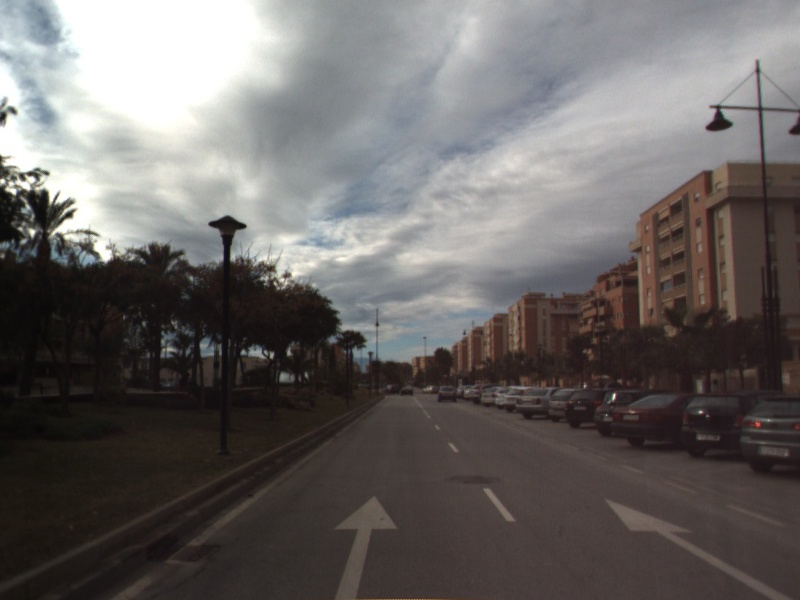STRAIGHT: (603, 497, 798, 600), (330, 494, 400, 600)
